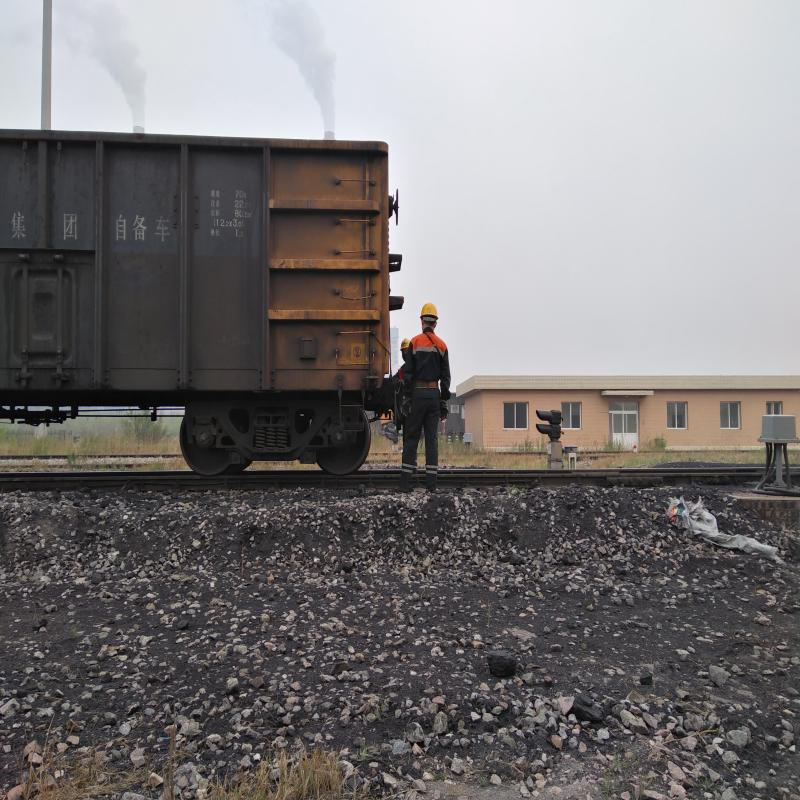train: (112, 127, 391, 489)
